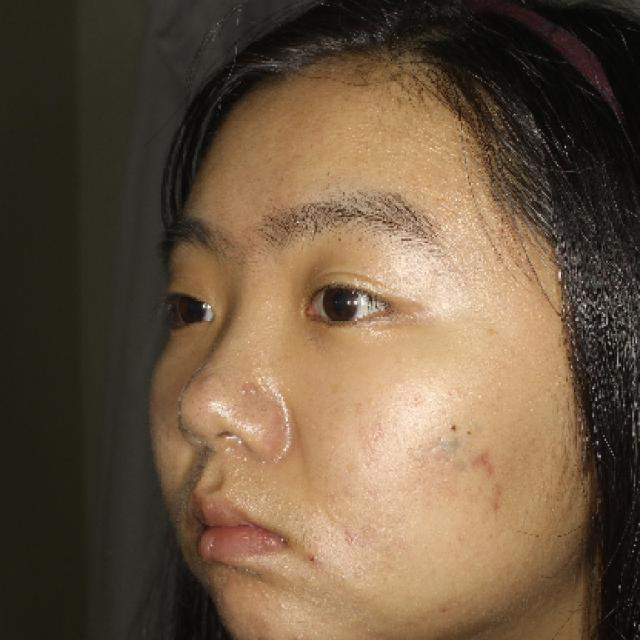Blackheads: (440, 412, 466, 442), (305, 552, 323, 570)
Whiteheads: (236, 378, 264, 400)
